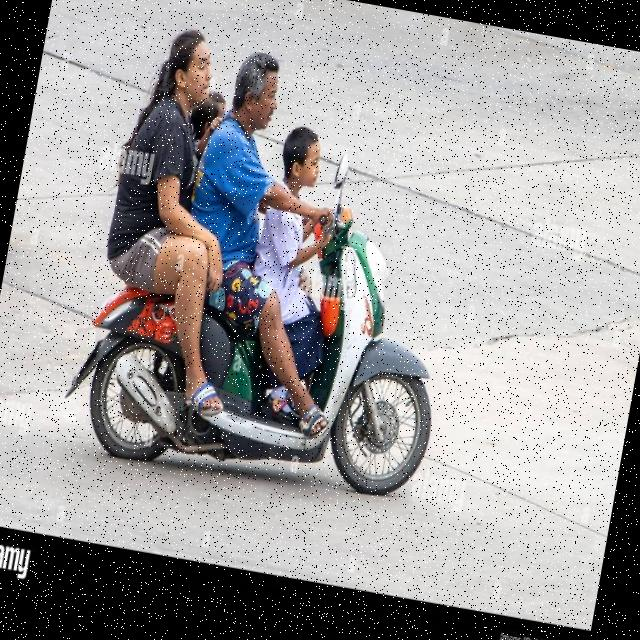No helmet: (219, 45, 298, 142)
Triple riding: (82, 8, 372, 356)
